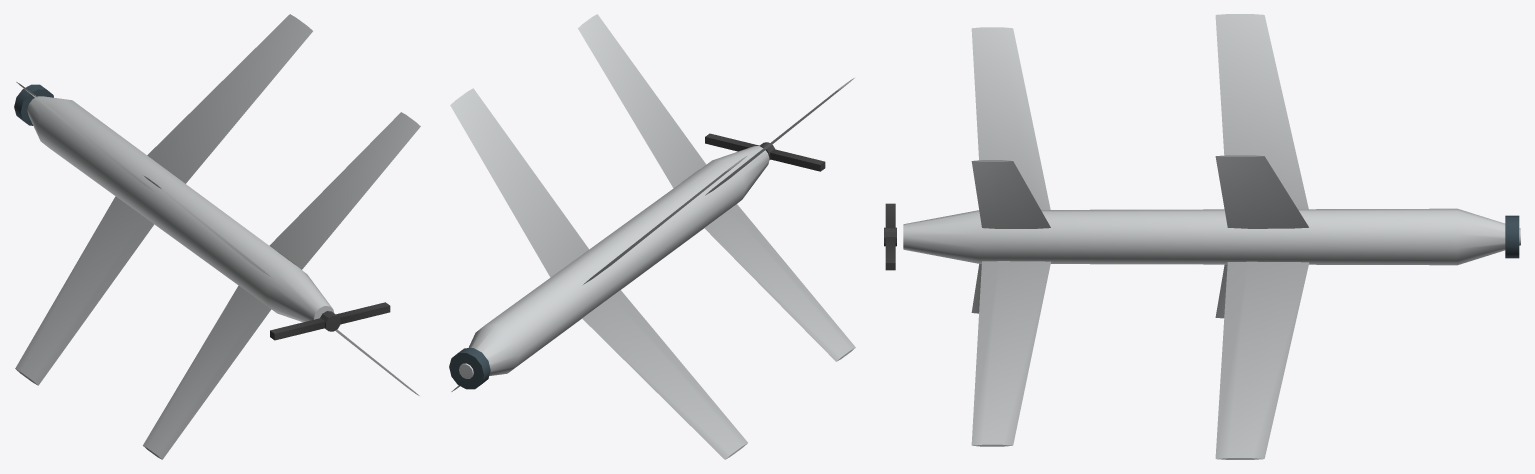
Rendered from usa_lm_red.glb.
3 renders of one model, left to right at view 1: azimuth 30°, elevation 25°; view 2: azimuth 150°, elevation 25°; view 3: azimuth 270°, elevation 25°, orthographic. The views are drawn at different scales.
Parts seen in each view (by area): view 1: body, propy_0; view 2: body, propy_0; view 3: body, propy_0.
Part boxes in pixels (x1,y1,x2,y2): body: (14,14,420,459); propy_0: (270,302,390,340); body: (449,14,855,459); propy_0: (705,133,825,171); body: (903,14,1520,459); propy_0: (884,203,896,270).
Bounding box in the file's own units: 0.8485 × 0.8537 × 1.62.
